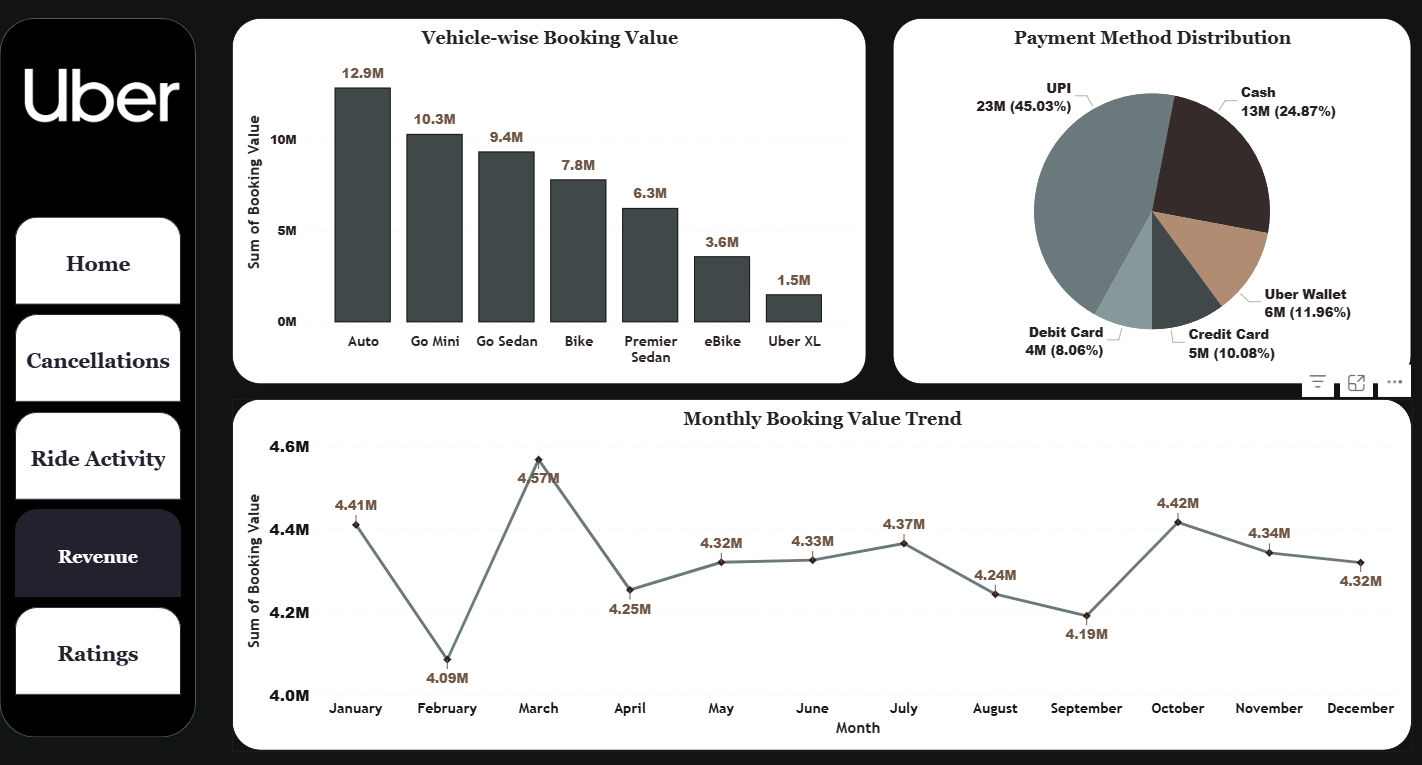

The dashboard page shown, as its layout file describes it:
{"tool":"powerbi","page":{"name":"Revenue","canvas":[1500,800],"ordinal":3},"visuals":[{"type":"pieChart","title":"Payment Method Distribution ","fields":{"Category":["ncr_ride_bookings.Payment Method"],"Y":["Sum(ncr_ride_bookings.Booking Value)"]},"box":[939,21.2,537,379.2],"z":0},{"type":"lineStackedColumnComboChart","title":"Vehicle-wise Booking Value","fields":{"Category":["ncr_ride_bookings.Vehicle Type"],"Y":["Sum(ncr_ride_bookings.Booking Value)"]},"box":[253.9,21.2,657.5,379.2],"z":1000},{"type":"lineChart","title":"Monthly Booking Value Trend","fields":{"Y":["Sum(ncr_ride_bookings.Booking Value)"],"Category":["ncr_ride_bookings.Date.Variation.Date Hierarchy.Month"]},"box":[253.9,416.6,1222.1,364.5],"z":2000},{"type":"shape","box":[13,21.2,203.4,745.3],"z":3000},{"type":"image","box":[26.9,47.8,182.2,107.5],"z":4000},{"type":"pageNavigator","box":[29.3,227.8,172.5,498],"z":5000}]}

Visuals, with their boxes in screenshot pixels (x1, y1, x2, y2), scaled from the page's 1500x800 canvas onto the 1422x765 screenshot:
"Payment Method Distribution " pieChart: left=890, top=20, right=1399, bottom=383
"Vehicle-wise Booking Value" lineStackedColumnComboChart: left=241, top=20, right=864, bottom=383
"Monthly Booking Value Trend" lineChart: left=241, top=398, right=1399, bottom=747
shape: left=12, top=20, right=205, bottom=733
image: left=26, top=46, right=198, bottom=149
pageNavigator: left=28, top=218, right=191, bottom=694
